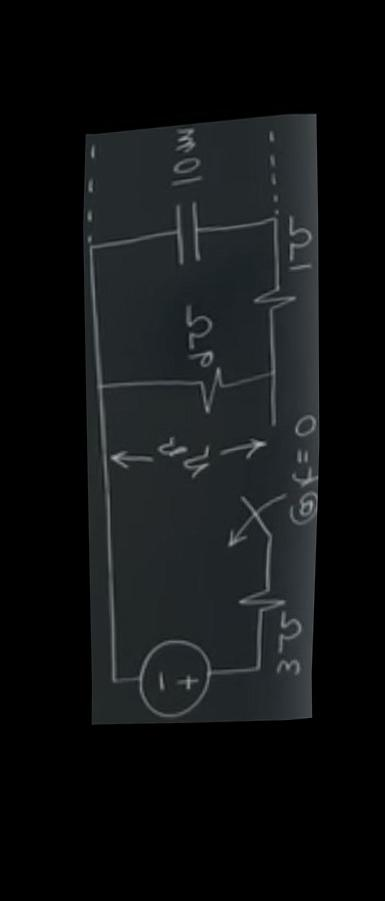Battery: (123, 629, 228, 734)
